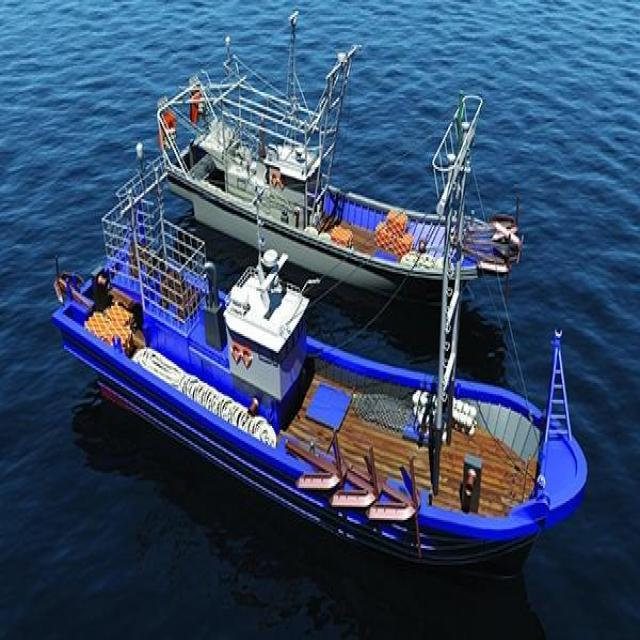Ship: (41, 136, 599, 570), (150, 7, 529, 302)
